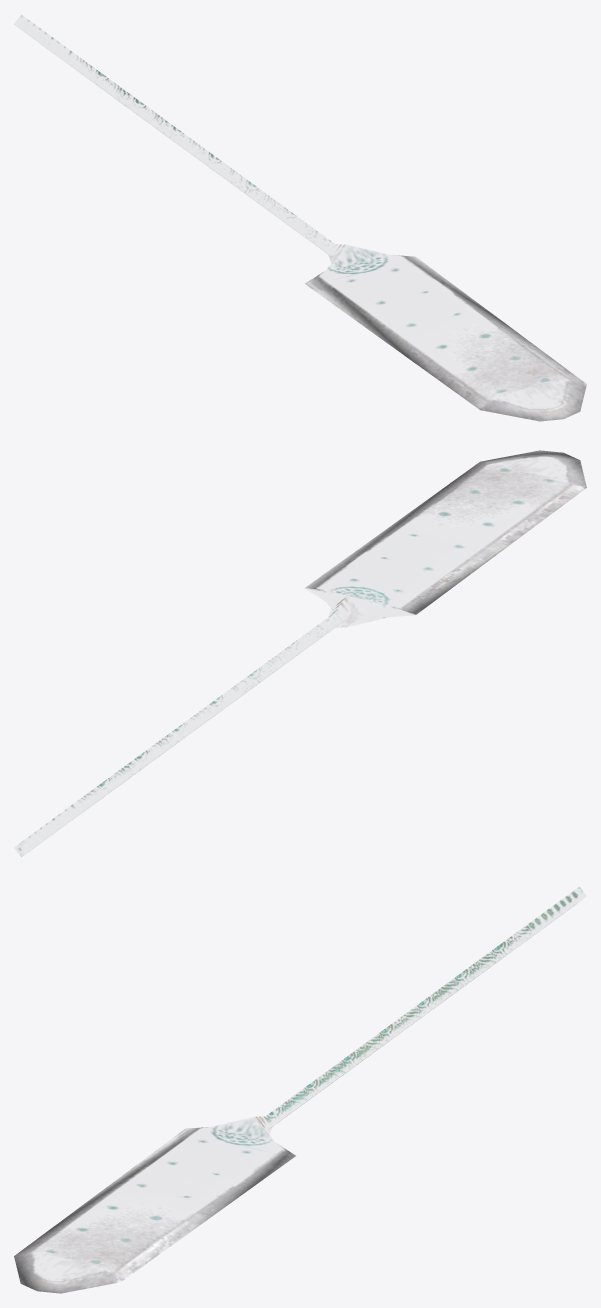
File: tblade_02.glb
The picture shows the model from 3 angles, top to bottom: view 1: azimuth 30°, elevation 25°; view 2: azimuth 150°, elevation 25°; view 3: azimuth 330°, elevation 25°; orthographic projection.
Parts seen in each view (by area): view 1: tblade_02; view 2: tblade_02; view 3: tblade_02.
Boxes of the visible parts, bbox=[...] form: tblade_02: bbox=[28, 20, 586, 421]; tblade_02: bbox=[18, 450, 586, 856]; tblade_02: bbox=[14, 887, 582, 1293].
Size of the model in its own units: 0.2694 by 0.0745 by 2.28.
Materials: 1 (1 with a texture image).
